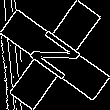N_SE: (23, 24, 87, 86)
